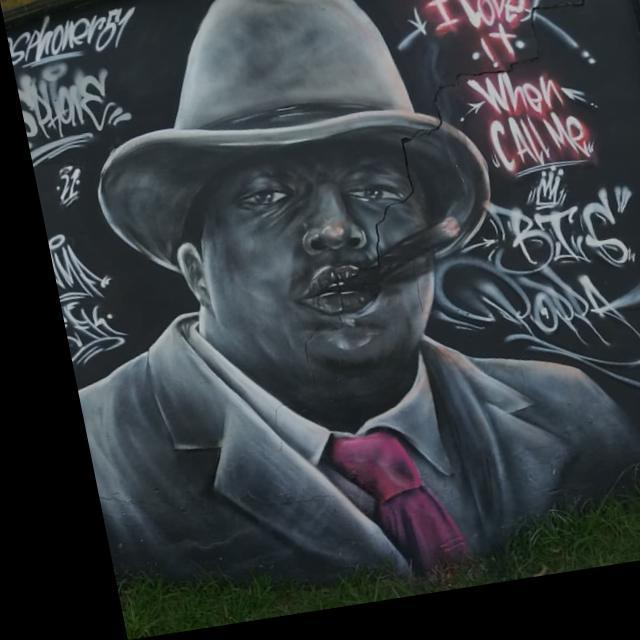-: (3, 0, 623, 562), (401, 0, 607, 211), (415, 240, 640, 391), (468, 174, 634, 304), (4, 16, 132, 162), (36, 223, 116, 369)
